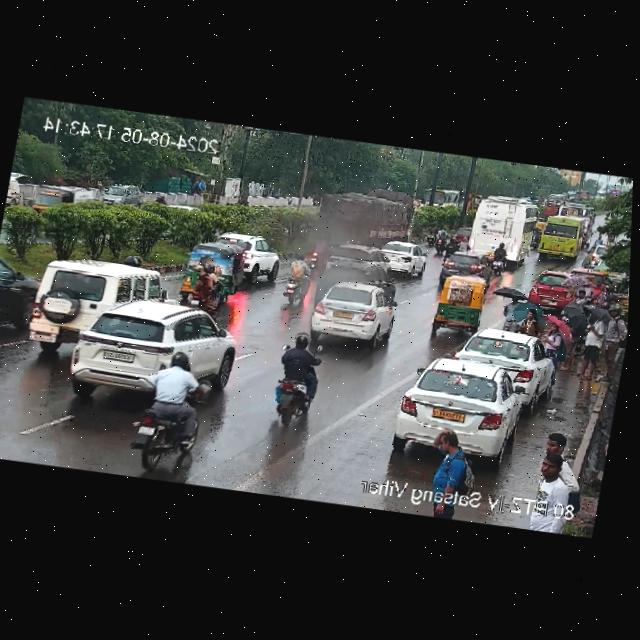bus: (453, 191, 540, 267), (532, 214, 594, 265), (416, 184, 464, 212)
car: (386, 350, 551, 466), (57, 293, 237, 397), (20, 251, 163, 354), (450, 326, 558, 399), (308, 275, 400, 345), (0, 250, 43, 339), (430, 274, 489, 335), (216, 232, 283, 280), (317, 241, 395, 274), (526, 270, 578, 311), (372, 241, 431, 277), (187, 240, 247, 268), (438, 249, 491, 278), (30, 183, 73, 213), (99, 180, 141, 210)
motorcycle: (126, 347, 217, 477), (266, 330, 325, 432), (187, 263, 228, 313), (487, 247, 515, 276), (431, 228, 450, 256)
person: (523, 428, 591, 513), (424, 432, 485, 498), (570, 305, 618, 380), (591, 307, 628, 374), (501, 302, 544, 338)
truck: (305, 186, 416, 253)
